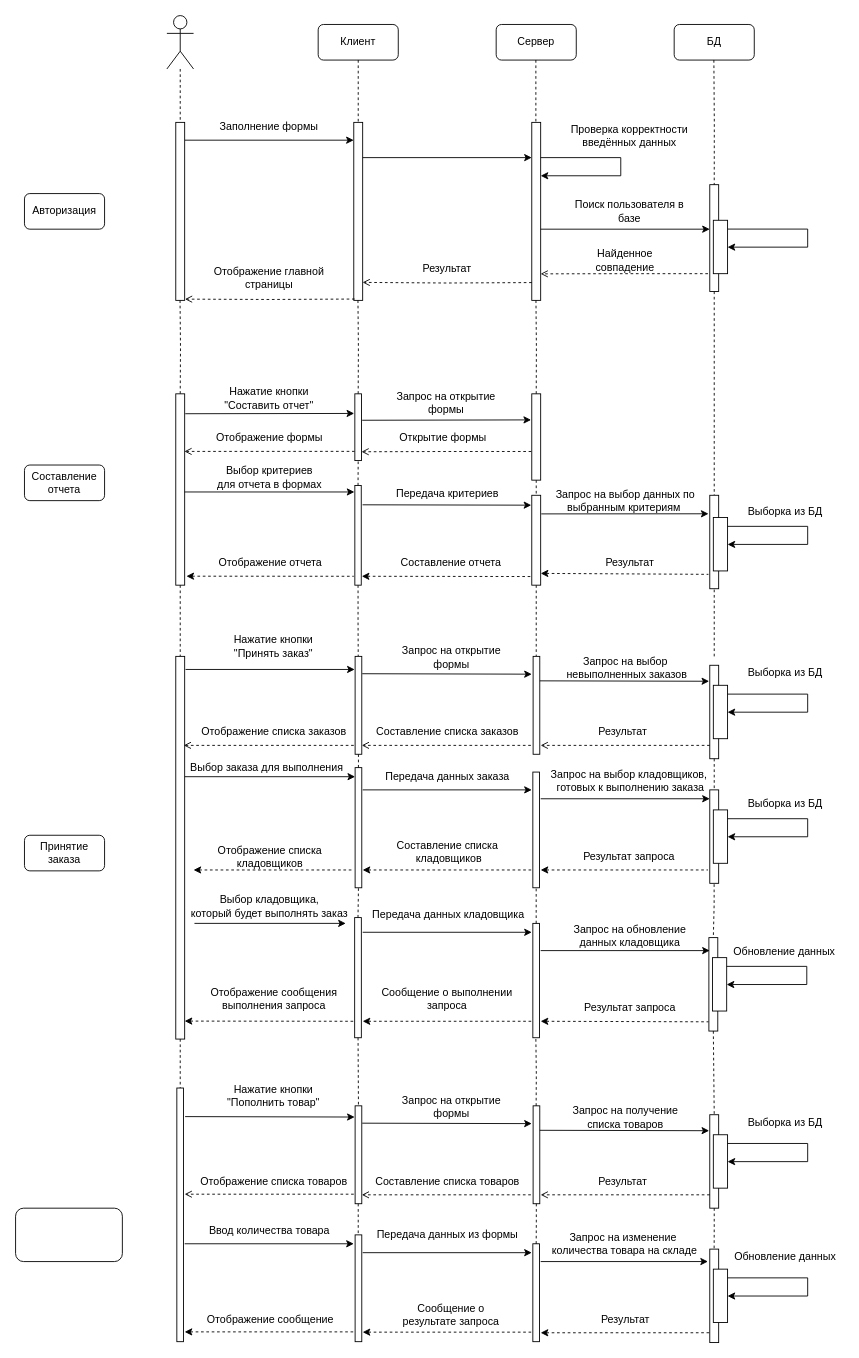
Image size: 859x1358. Some labels were removed from this diagram. The shapes that lost their labels are listed below. From the top down, each one's box as (x1, y1, x2, y2) in pixels, then its label:
(166, 15, 194, 69): Начальник склада
(15, 1207, 122, 1262): Ввести количество поступившего товара
